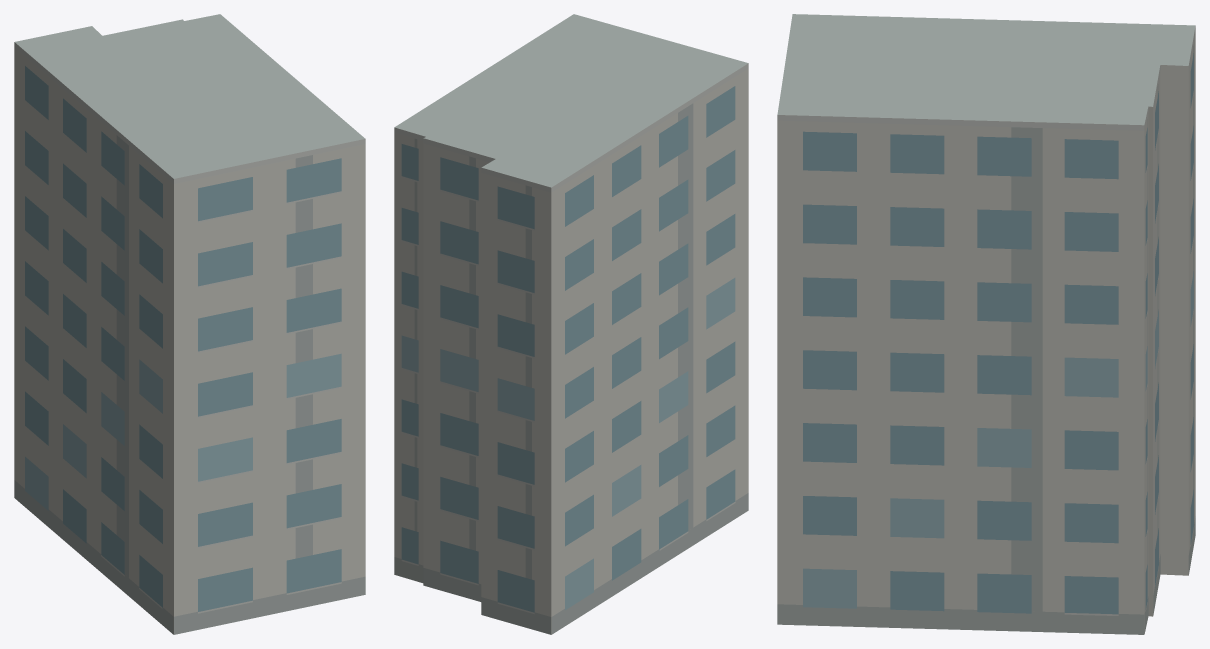
Rendered from survey-upis-32878130.glb.
3 views of the same model, side by side, from view 1: azimuth 30°, elevation 25°; view 2: azimuth 150°, elevation 25°; view 3: azimuth 270°, elevation 25° (orthographic). The views are drawn at different scales.
Parts seen in each view (by area): view 1: survey-upis-32878130.tmp; view 2: survey-upis-32878130.tmp; view 3: survey-upis-32878130.tmp.
Boxes of the visible parts, x1,y1,x2,y2 form: survey-upis-32878130.tmp: (14, 14, 365, 634); survey-upis-32878130.tmp: (394, 14, 748, 634); survey-upis-32878130.tmp: (777, 14, 1195, 634).
Bounding box in the file's own units: 10.12 × 21.6 × 16.07.
